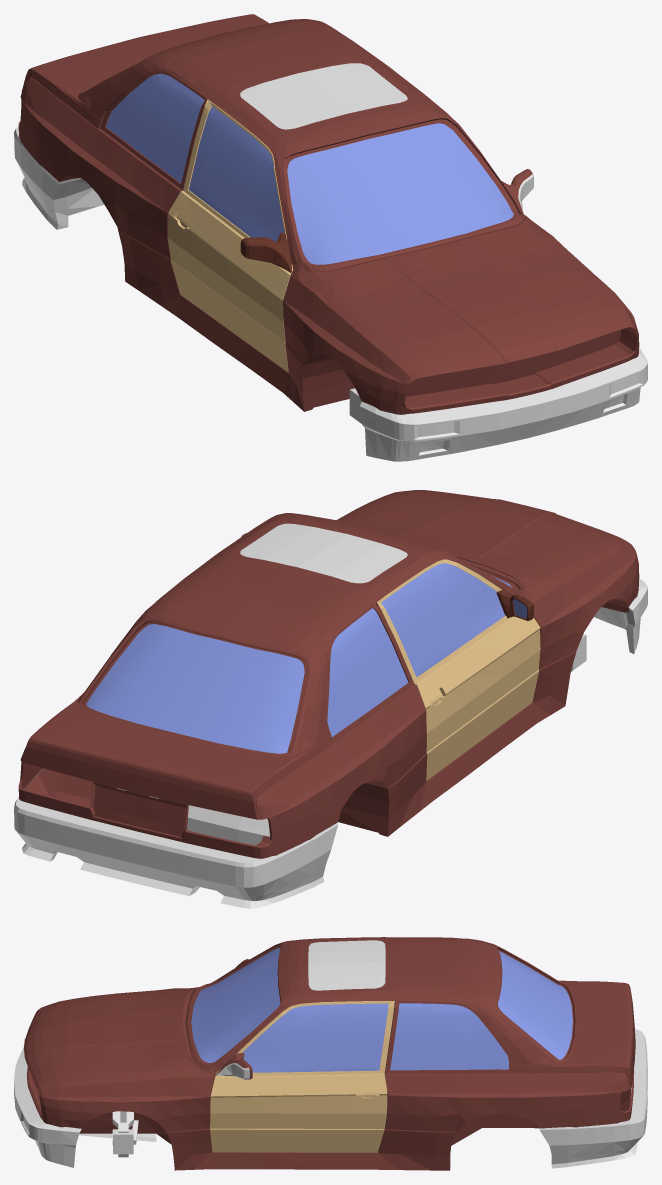
The model's file is Car Interior_v2.fbx.
3 views of the same model, one above another, from view 1: azimuth 30°, elevation 25°; view 2: azimuth 150°, elevation 25°; view 3: azimuth 270°, elevation 25° (orthographic). The views are drawn at different scales.
Visible parts, largest first — view 1: Car, Window Front, Window Right 1, Window Right 2; view 2: Car, Window Back, Window Right 1, Window Right 2; view 3: Car, Window Left 1, Window Left 2, Window Front, Window Back.
Part boxes in pixels (x1,y1,x2,y2): Car: (14, 14, 647, 461); Window Front: (287, 123, 513, 264); Window Right 1: (189, 106, 284, 241); Window Right 2: (106, 73, 204, 182); Car: (14, 490, 647, 908); Window Back: (86, 624, 304, 753); Window Right 1: (381, 563, 505, 677); Window Right 2: (327, 608, 408, 736); Car: (14, 937, 647, 1170); Window Left 1: (242, 1003, 388, 1072); Window Left 2: (390, 1003, 508, 1070); Window Front: (191, 947, 280, 1062); Window Back: (498, 951, 572, 1059).
Size of the model in its own units: 175 by 120 by 430.
